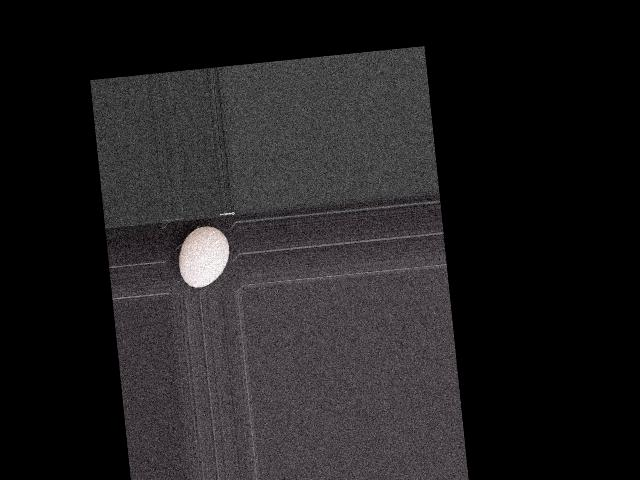egg: (175, 224, 232, 289)
